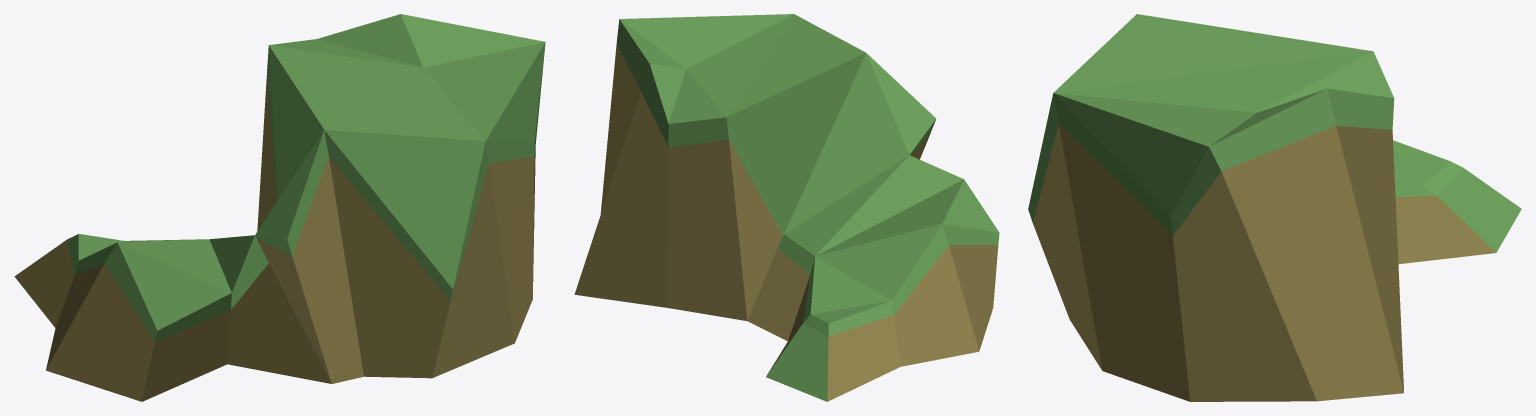
Rendered from low poly rock 2.fbx.
3 renders of one model, left to right at view 1: azimuth 30°, elevation 25°; view 2: azimuth 150°, elevation 25°; view 3: azimuth 270°, elevation 25°, orthographic. The views are drawn at different scales.
Parts seen in each view (by area): view 1: Plane.013; view 2: Plane.013; view 3: Plane.013.
Part boxes in pixels (x1,y1,x2,y2): Plane.013: [14, 14, 545, 401]; Plane.013: [574, 14, 999, 401]; Plane.013: [1028, 14, 1521, 401].
Bounding box in the file's own units: 507 × 270 × 436.
